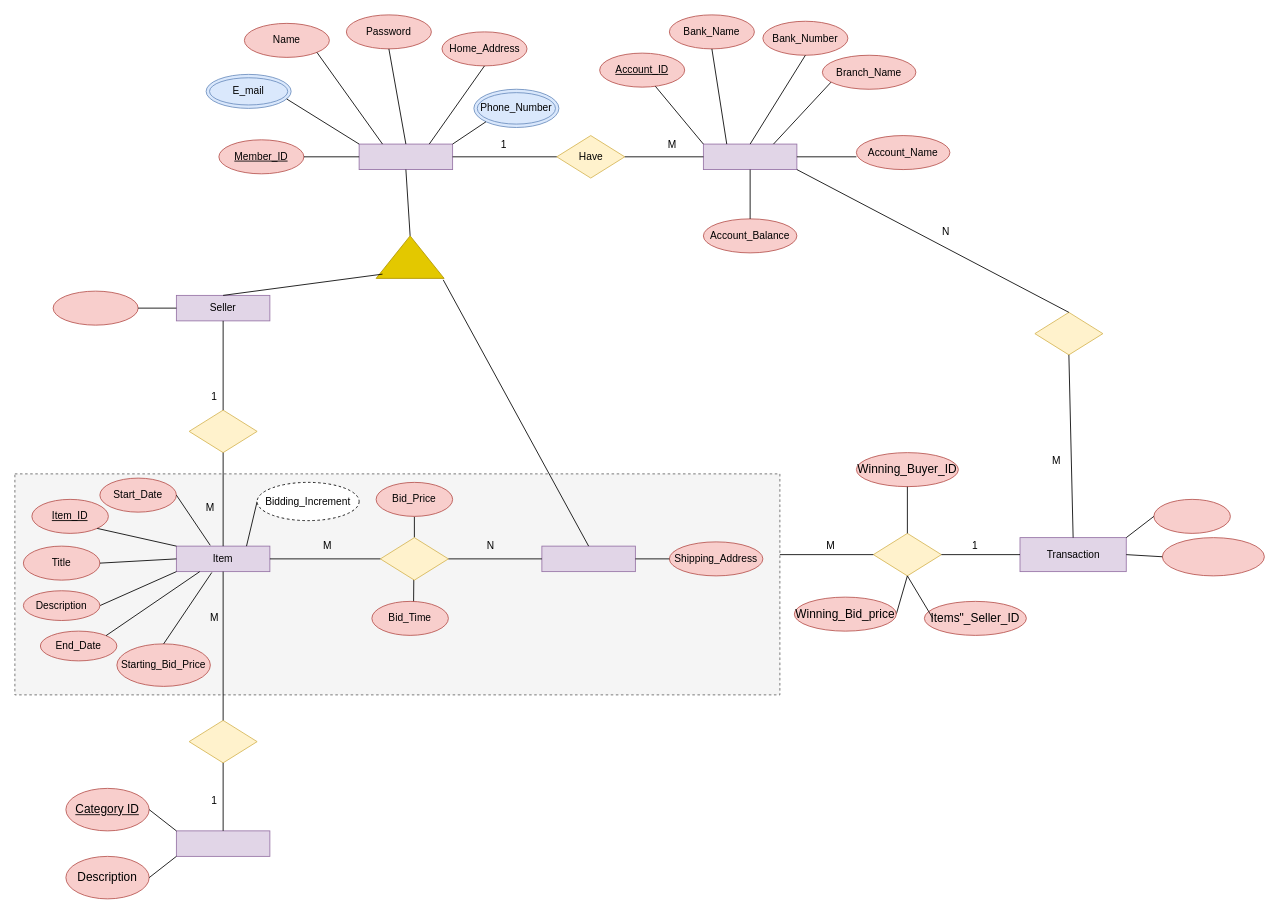
The diagram is 1279 pixels wide and 914 high, and some of its shapes have lost their labels. Here are the shapes that lost their labels. From the top down, the centre of each, then its label:
At point (405, 156): "Member".
At point (750, 156): "Account".
At point (409, 256): "ISA".
At point (95, 307): "Routing_Number".
At point (1068, 333): "Update".
At point (222, 431): "Place".
At point (1191, 516): "Transaction_ID".
At point (414, 558): "Bid_On".
At point (588, 558): "Buyer".
At point (907, 554): "Won_Bid".
At point (1213, 556): "Transaction_Time".
At point (222, 741): "Consiste_of".
At point (223, 843): "Category".
